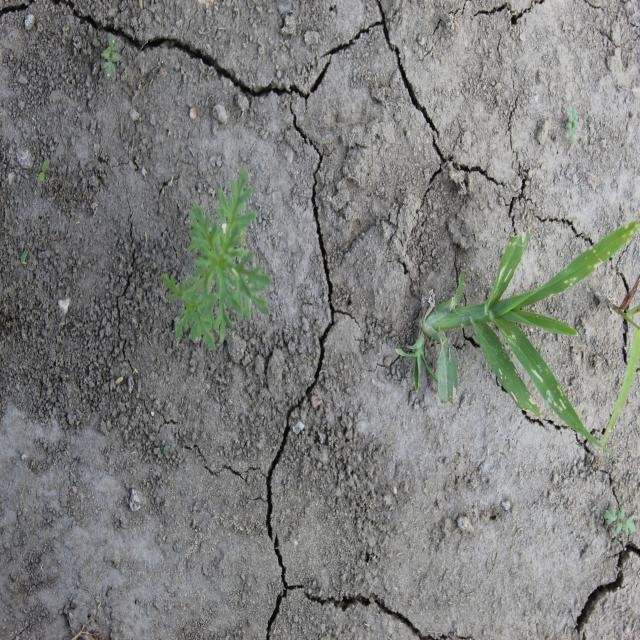Goosegrass: (394, 218, 640, 463)
Ragweed: (158, 164, 274, 352)
